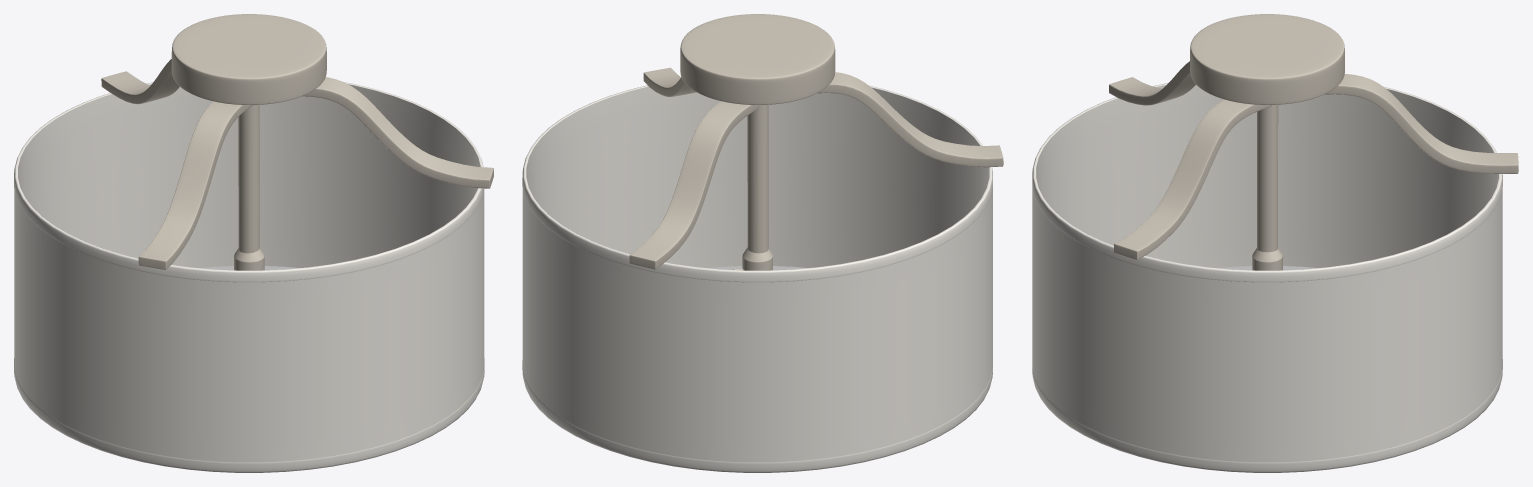
File: lamp_B07DBJYDLK.glb
3 views of the same model, side by side, from view 1: azimuth 30°, elevation 25°; view 2: azimuth 150°, elevation 25°; view 3: azimuth 270°, elevation 25° (orthographic).
Visible parts, largest first — view 1: RootNode; view 2: RootNode; view 3: RootNode.
Part boxes in pixels (box(x1,y1,x2,y2)): RootNode: box(14, 14, 493, 472); RootNode: box(522, 14, 1003, 472); RootNode: box(1032, 14, 1518, 472).
Bounding box in the file's own units: 0.382 × 0.3036 × 0.3949.
1 material, 1 textured.
